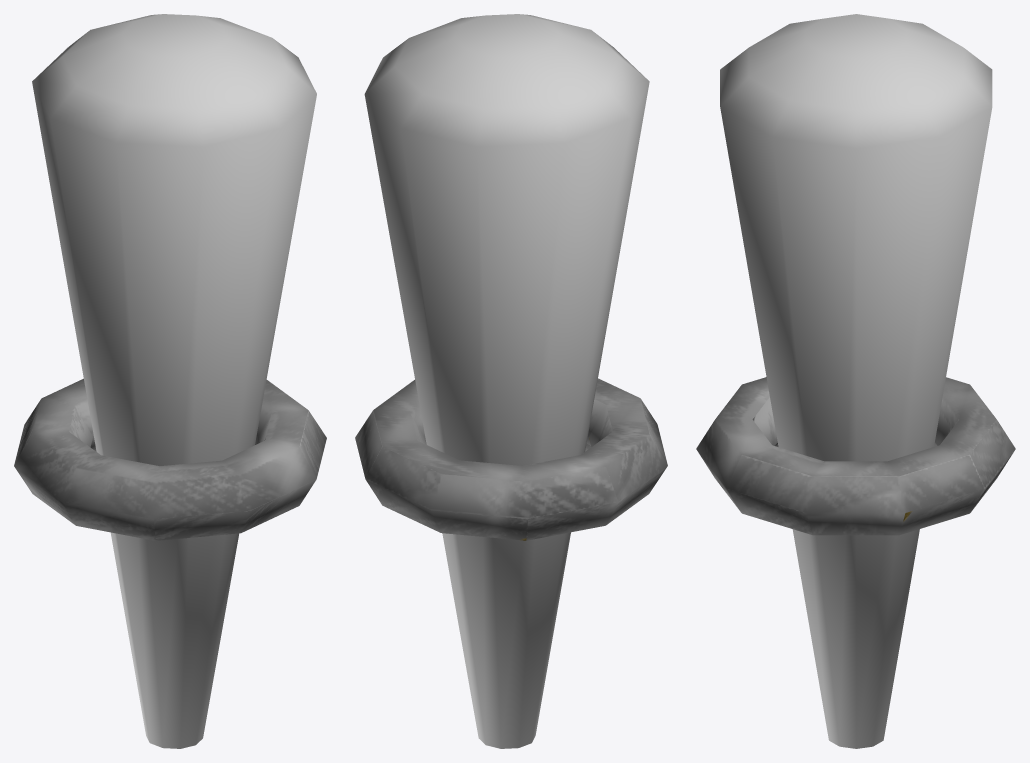
The model's file is Torch_Mount.obj.
3 views of the same model, side by side, from view 1: azimuth 30°, elevation 25°; view 2: azimuth 150°, elevation 25°; view 3: azimuth 270°, elevation 25° (orthographic).
Parts seen in each view (by area): view 1: Cone001, Torus001; view 2: Cone001, Torus001; view 3: Cone001, Torus001.
Boxes of the visible parts, left/top/right/bottom form: Cone001: left=32, top=14, right=316, bottom=748; Torus001: left=14, top=378, right=326, bottom=540; Cone001: left=364, top=14, right=649, bottom=748; Torus001: left=355, top=378, right=667, bottom=540; Cone001: left=720, top=14, right=992, bottom=748; Torus001: left=696, top=377, right=1015, bottom=535.
Size of the model in its own units: 1.06 by 2.7 by 1.12.
